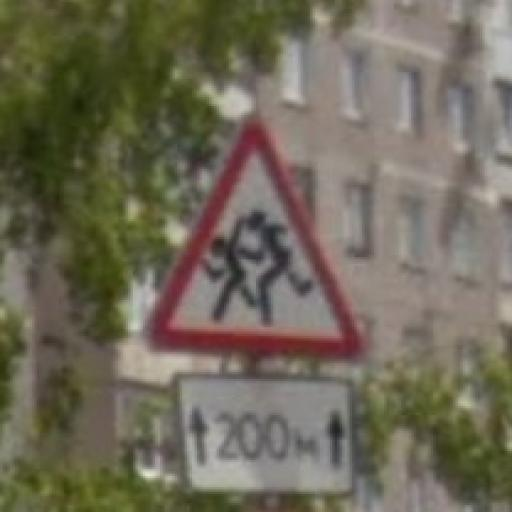traffic_sign: (146, 116, 363, 360)
